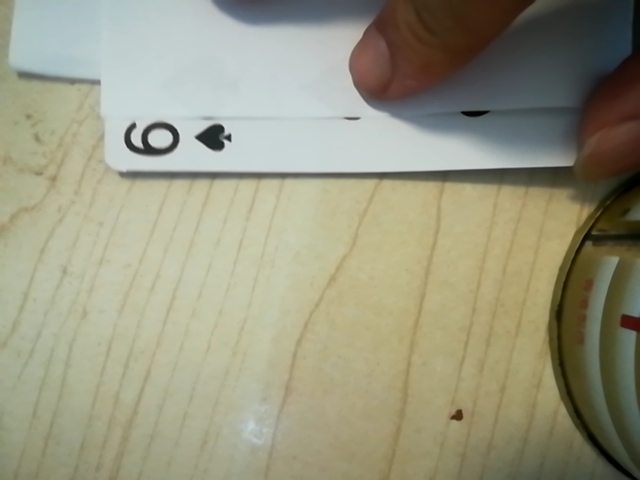ht 6: (114, 108, 237, 172)
